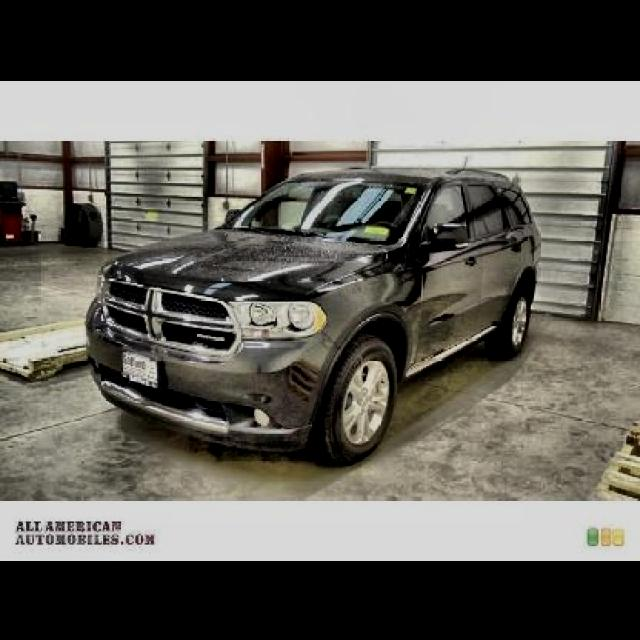black: (84, 167, 538, 466)
